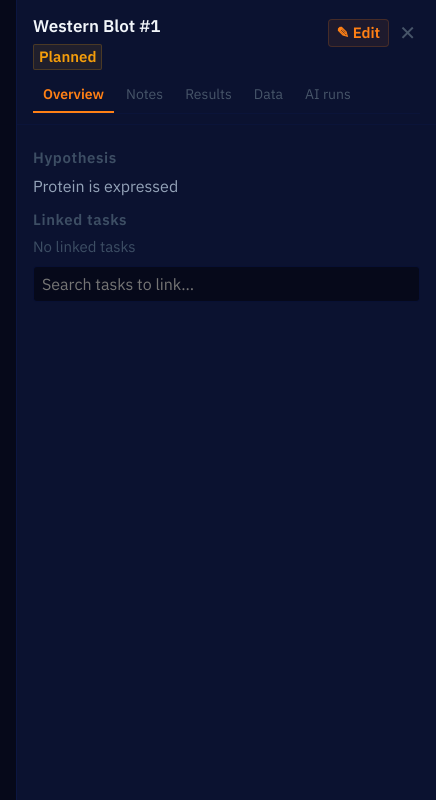
ExperimentDetail › switches to NOTES tab and shows Add Note button
Click the tab "Notes". click: (145, 96)
box: [116, 78, 173, 113]
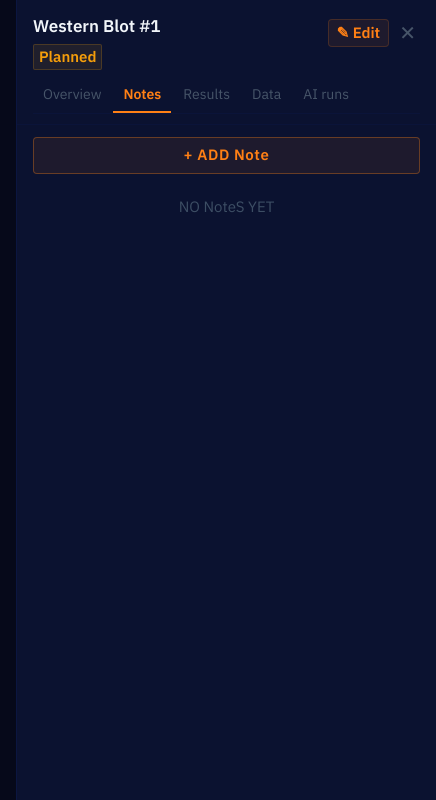
Check: the button "+ ADD Note" is shown, box [33, 137, 420, 174]
